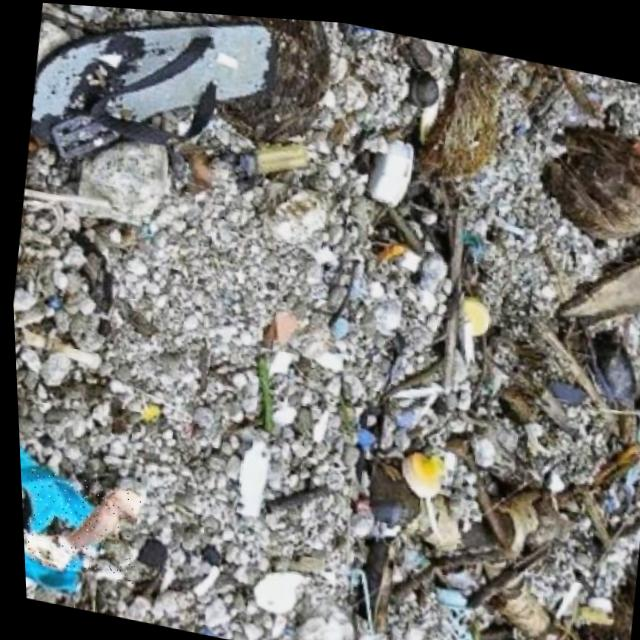Person in Rubble: (16, 467, 139, 584)
